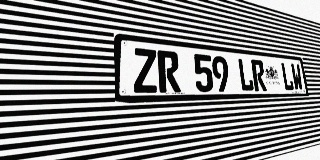5: (193, 54, 214, 92)
9: (211, 55, 231, 92)
L: (237, 58, 254, 91), (280, 62, 294, 91)
R: (157, 50, 181, 93), (251, 59, 267, 91)
W: (290, 63, 303, 91)
Z: (132, 48, 159, 93)
